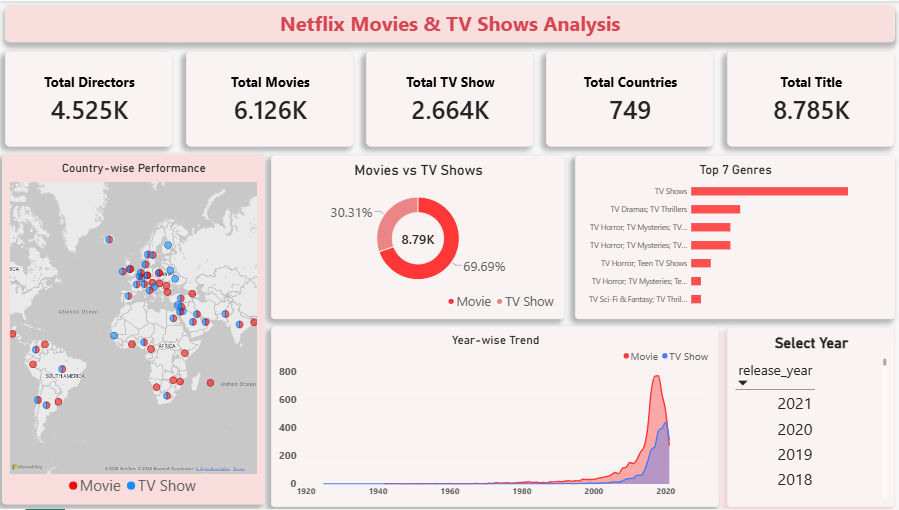

This screenshot's page, from the dashboard's own definition file:
{"tool":"powerbi","page":{"name":"Page 1","canvas":[1920,1080],"ordinal":0},"visuals":[{"type":"textbox","box":[10.7,8.6,1892.2,79.2],"z":0},{"type":"cardVisual","fields":{"Data":["Count(netflix netflix_title.director)"]},"box":[10.7,107,357.5,203.3],"z":1000},{"type":"cardVisual","fields":{"Data":["Count(netflix netflix_title.show_id)"]},"box":[394.4,107,357.5,203.3],"z":2000},{"type":"cardVisual","fields":{"Data":["Count(netflix netflix_title.show_id)"]},"box":[778.1,107,357.5,203.3],"z":3000},{"type":"cardVisual","fields":{"Data":["Count(netflix netflix_title.country)"]},"box":[1161.7,107,357.5,203.3],"z":4000},{"type":"cardVisual","fields":{"Data":["Count(netflix netflix_title.title)"]},"box":[1545.4,107,357.5,203.3],"z":5000},{"type":"donutChart","title":"Movies vs TV Shows","fields":{"Category":["netflix netflix_title.type"],"Y":["CountNonNull(netflix netflix_title.show_id)"]},"box":[575.8,327.5,625,348.9],"z":6000},{"type":"barChart","title":"Top 7 Genres","fields":{"Category":["netflix netflix_title.listed_in"],"Y":["CountNonNull(netflix netflix_title.show_id)"]},"box":[1222.2,327.5,680.7,348.9],"z":7000},{"type":"areaChart","title":"Year-wise Trend","fields":{"Category":["netflix netflix_title.release_year"],"Series":["netflix netflix_title.type"],"Y":["CountNonNull(netflix netflix_title.show_id)"]},"box":[575.8,691.4,952.5,385.3],"z":7001},{"type":"tableEx","title":"Select Year","fields":{"Values":["netflix netflix_title.release_year"]},"box":[1545.4,693.5,356.6,383.5],"z":7002},{"type":"map","title":"Country-wise Performance","fields":{"Category":["netflix netflix_title.country"],"Series":["netflix netflix_title.type"]},"box":[4.3,325.4,558.7,744.9],"z":7003}]}

Visuals, with their boxes in screenshot pixels (x1, y1, x2, y2), scaled from the page's 1920x1080 canvas onto the 899x510 screenshot:
textbox: region(5, 4, 891, 41)
cardVisual - Count(netflix netflix_title.director): region(5, 51, 172, 147)
cardVisual - Count(netflix netflix_title.show_id): region(185, 51, 352, 147)
cardVisual - Count(netflix netflix_title.show_id): region(364, 51, 532, 147)
cardVisual - Count(netflix netflix_title.country): region(544, 51, 711, 147)
cardVisual - Count(netflix netflix_title.title): region(724, 51, 891, 147)
"Movies vs TV Shows" donutChart: region(270, 155, 562, 319)
"Top 7 Genres" barChart: region(572, 155, 891, 319)
"Year-wise Trend" areaChart: region(270, 326, 716, 508)
"Select Year" tableEx: region(724, 327, 891, 509)
"Country-wise Performance" map: region(2, 154, 264, 505)
